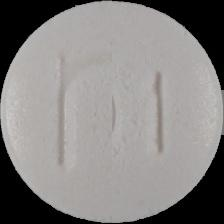0179-0122: (0, 0, 224, 224)
